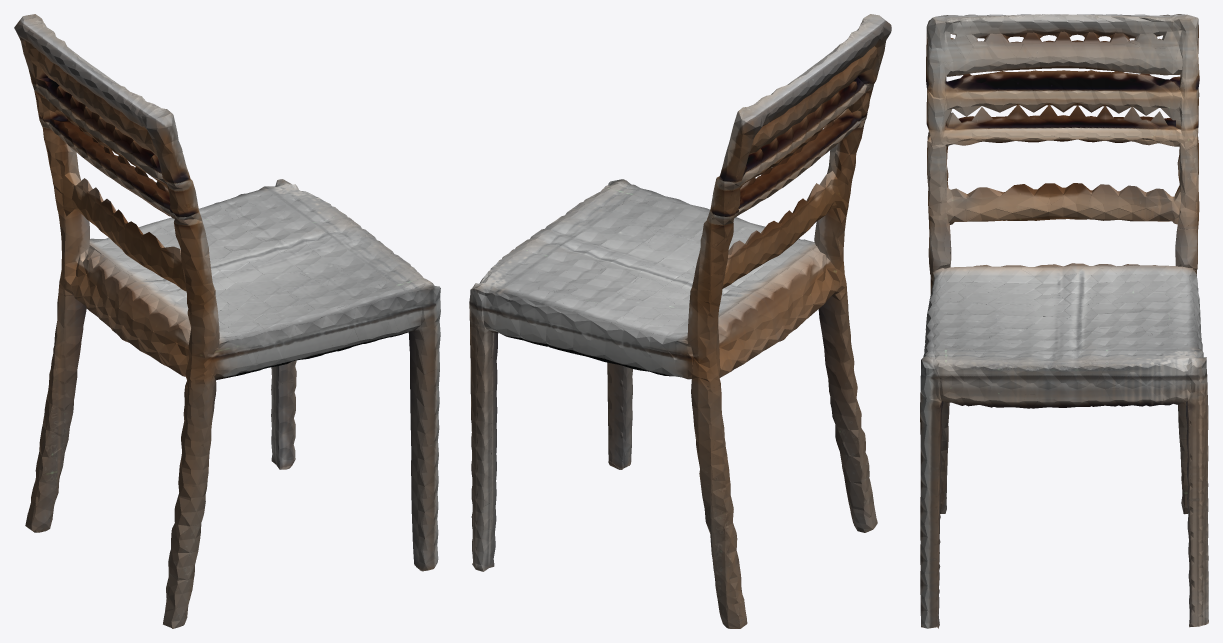
File: elem_94_131_206_213_4_5.obj
3 renders of one model, left to right at view 1: azimuth 30°, elevation 25°; view 2: azimuth 150°, elevation 25°; view 3: azimuth 270°, elevation 25°, orthographic. The views are drawn at different scales.
Bounding box in the file's own units: 0.4151 × 0.7059 × 0.376.
Materials: 1 (1 with a texture image).
